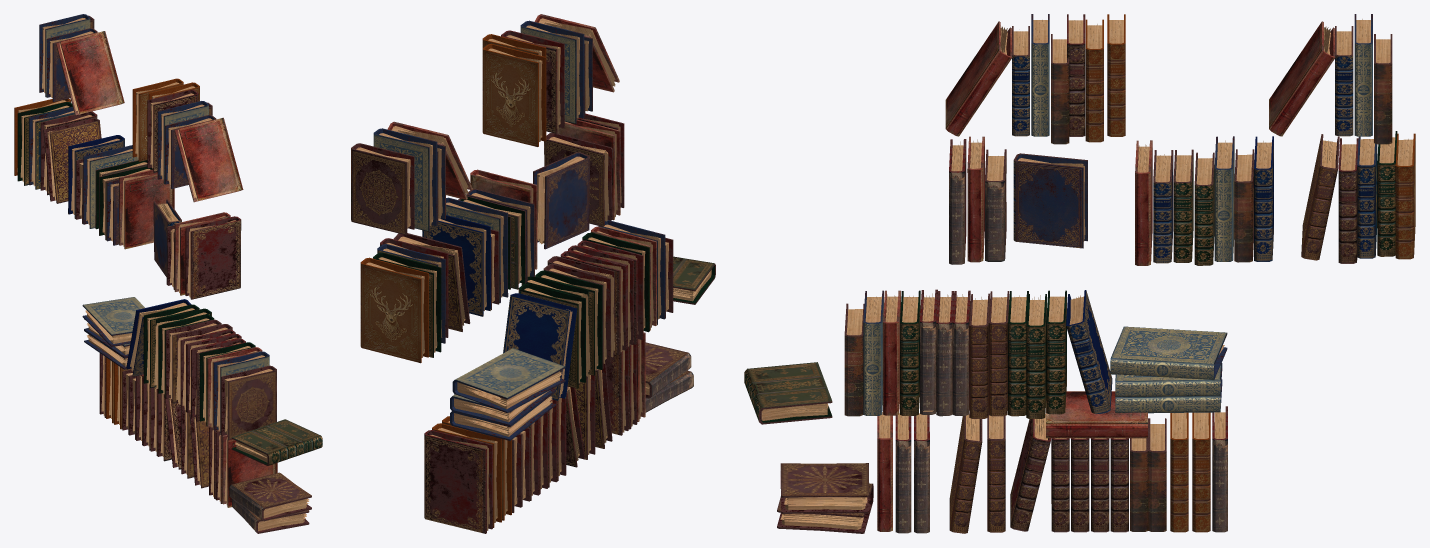
File: BooksMeshes.fbx
3 views of the same model, side by side, from view 1: azimuth 30°, elevation 25°; view 2: azimuth 150°, elevation 25°; view 3: azimuth 270°, elevation 25° (orthographic). The views are drawn at different scales.
Visible parts, largest first — view 1: Books_03, Books_02, Books_04, Books_01; view 2: Books_03, Books_02, Books_04, Books_01; view 3: Books_02, Books_03, Books_01, Books_04.
Part boxes in pixels (x1=…): Books_03: x1=14, y1=98, x2=241, y2=299; Books_02: x1=82, y1=297, x2=322, y2=465; Books_04: x1=39, y1=14, x2=243, y2=202; Books_01: x1=99, y1=353, x2=311, y2=533; Books_03: x1=360, y1=113, x2=624, y2=363; Books_02: x1=450, y1=220, x2=715, y2=440; Books_04: x1=351, y1=14, x2=619, y2=235; Books_01: x1=424, y1=332, x2=693, y2=533; Books_02: x1=744, y1=289, x2=1227, y2=424; Books_03: x1=949, y1=131, x2=1415, y2=265; Books_01: x1=777, y1=391, x2=1227, y2=533; Books_04: x1=945, y1=14, x2=1392, y2=144.
Size of the model in its own units: 38.6 by 166 by 209.
